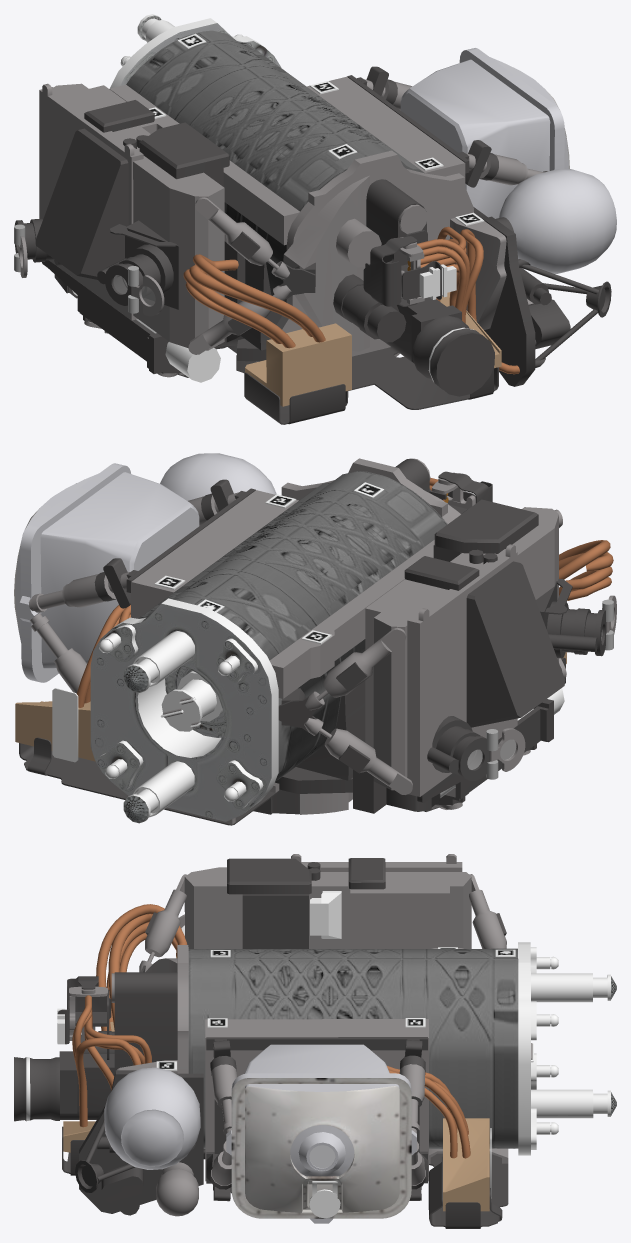
File: scaner_head.glb
3 renders of one model, top to bottom at view 1: azimuth 30°, elevation 25°; view 2: azimuth 150°, elevation 25°; view 3: azimuth 270°, elevation 25°, orthographic. The views are drawn at different scales.
Visible parts, largest first — view 1: turret_obj, PIXL, WATSON, turret_obj.004, turret_parts, turret_obj.006, turret_obj.002, cover_03; view 2: turret_obj, turret_obj.004, PIXL, turret_parts, WATSON, turret_obj.006, turret_obj.002, corring_drill, cover_02; view 3: turret_obj, PIXL, turret_obj.004, turret_parts, WATSON, PIXL_cover_01.
Boxes of the visible parts, x1,y1,x2,y2 form: turret_obj: [52, 14, 616, 424]; PIXL: [400, 48, 569, 218]; WATSON: [97, 158, 224, 350]; turret_obj.004: [35, 83, 156, 320]; turret_parts: [42, 100, 245, 382]; turret_obj.006: [78, 128, 128, 276]; turret_obj.002: [14, 83, 147, 279]; cover_03: [131, 275, 164, 316]; turret_obj: [15, 453, 613, 825]; turret_obj.004: [365, 549, 565, 796]; PIXL: [14, 463, 199, 682]; turret_parts: [353, 499, 564, 813]; WATSON: [512, 507, 613, 662]; turret_obj.006: [466, 561, 519, 724]; turret_obj.002: [418, 544, 520, 780]; corring_drill: [160, 671, 223, 731]; cover_02: [489, 728, 525, 771]; turret_obj: [14, 874, 616, 1228]; PIXL: [226, 1044, 416, 1223]; turret_obj.004: [301, 862, 471, 948]; turret_parts: [227, 858, 385, 948]; WATSON: [184, 867, 242, 948]; PIXL_cover_01: [309, 1181, 340, 1218].
Size of the model in its own units: 0.6619 by 0.321 by 0.739.
Materials: 15 (6 with a texture image).
